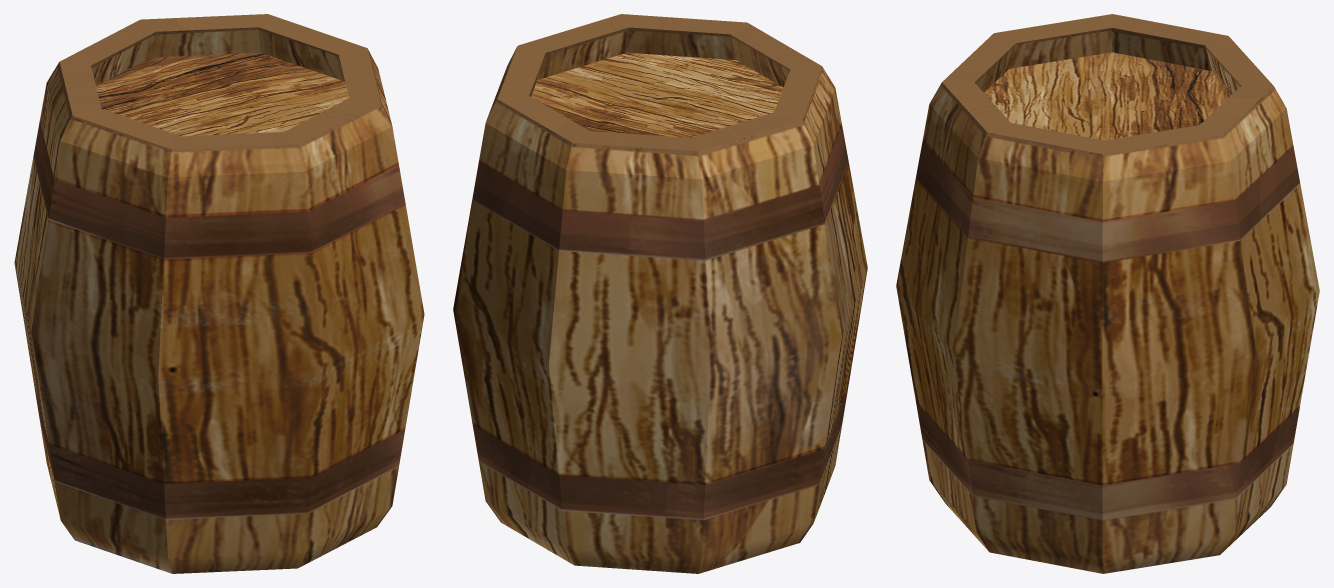
The model's file is Barrel_LOW.fbx.
3 renders of one model, left to right at view 1: azimuth 30°, elevation 25°; view 2: azimuth 150°, elevation 25°; view 3: azimuth 270°, elevation 25°, orthographic.
Visible parts, largest first — view 1: pCylinder9; view 2: pCylinder9; view 3: pCylinder9.
Boxes of the visible parts, box(x1,y1,x2,y2) form: pCylinder9: box(14, 14, 424, 573); pCylinder9: box(453, 14, 867, 573); pCylinder9: box(896, 14, 1319, 573).
Size of the model in its own units: 2.37 by 2.6 by 2.37.
1 material, 1 textured.
